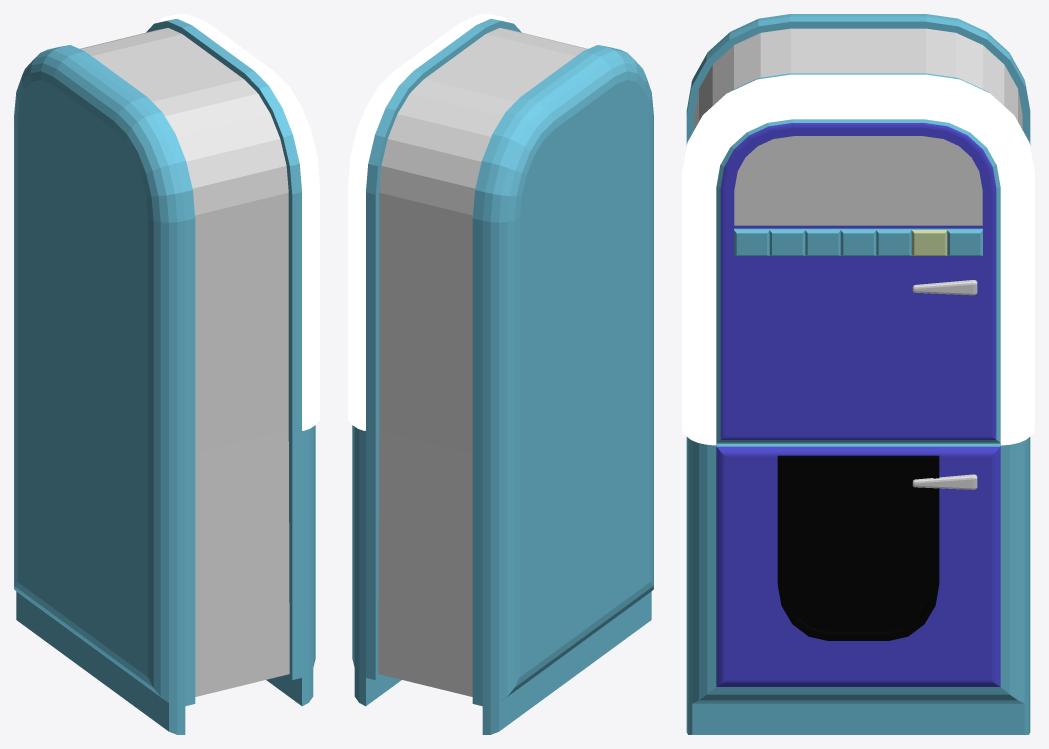
File: FunkyFridge.fbx
The picture shows the model from 3 angles, left to right: view 1: azimuth 30°, elevation 25°; view 2: azimuth 150°, elevation 25°; view 3: azimuth 270°, elevation 25°; orthographic projection. The views are drawn at different scales.
Parts seen in each view (by area): view 1: JukeFridge; view 2: JukeFridge; view 3: JukeFridge, Speaker, JukeFridgeWindow, Buttons, Fridge-Handle, Fridge-Handle.001.
Boxes of the visible parts, left/top/right/bottom form: JukeFridge: left=14, top=14, right=319, bottom=734; JukeFridge: left=348, top=14, right=653, bottom=734; JukeFridge: left=682, top=14, right=1034, bottom=734; Speaker: left=777, top=455, right=939, bottom=640; JukeFridgeWindow: left=734, top=136, right=982, bottom=225; Buttons: left=734, top=228, right=982, bottom=255; Fridge-Handle: left=912, top=474, right=977, bottom=489; Fridge-Handle.001: left=912, top=280, right=977, bottom=295.
Bounding box in the file's own units: 128 × 423 × 205.
